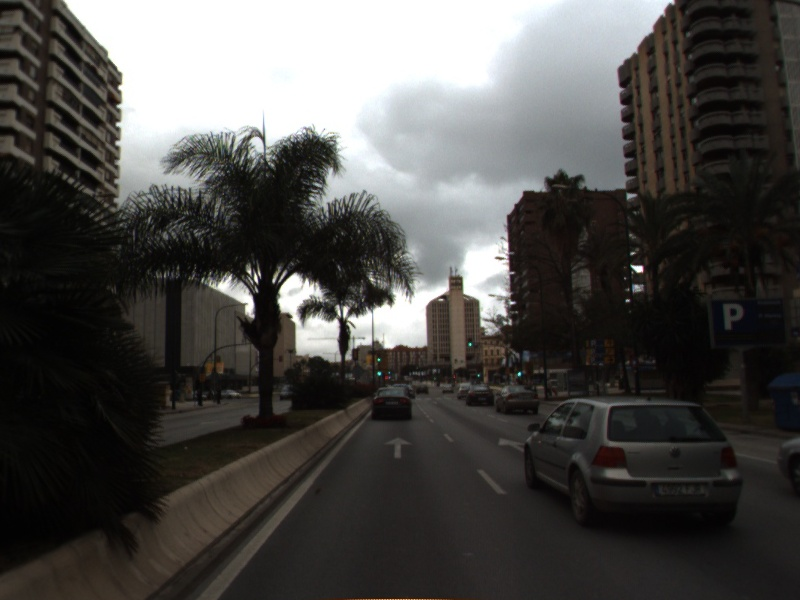STRAIGHT: (381, 435, 416, 460), (496, 435, 527, 453)
